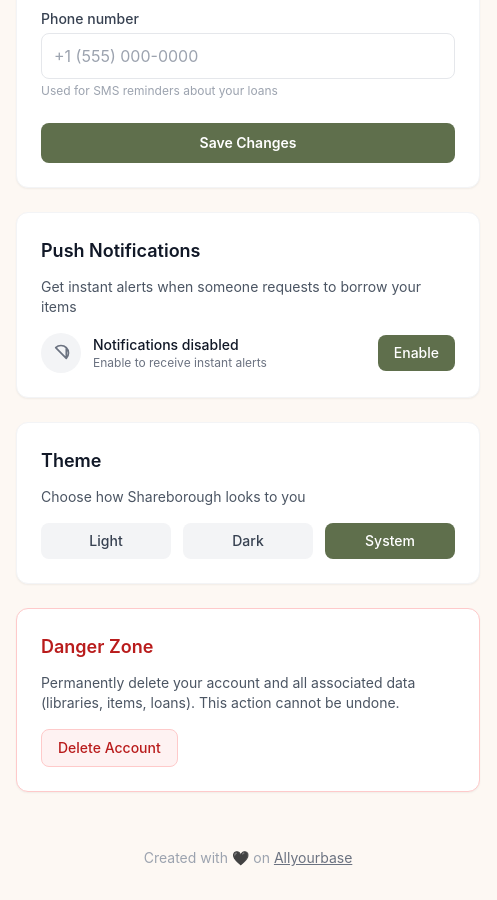
Test: Settings › shows confirmation form when Delete Account is clicked
(page scrolled)
Expected: the heading "Danger Zone" is shown, [41,636,153,657]
Click the button "Delete Account": click(109, 748) [41,729,178,767]
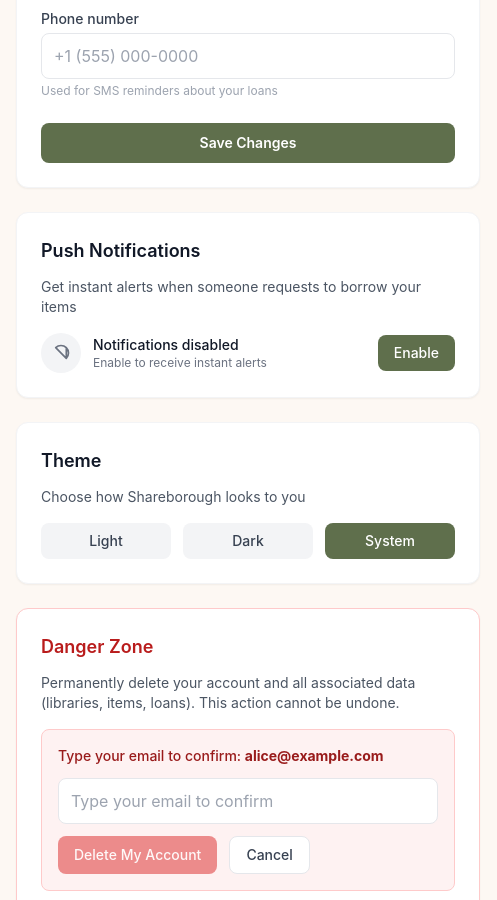
Now the field named "Confirm email for deletion" is shown, box [58,778,438,824]
Now the button "Delete My Account" is shown, box [58,836,217,874]
Now the button "Cancel" is shown, box [229,836,310,874]
